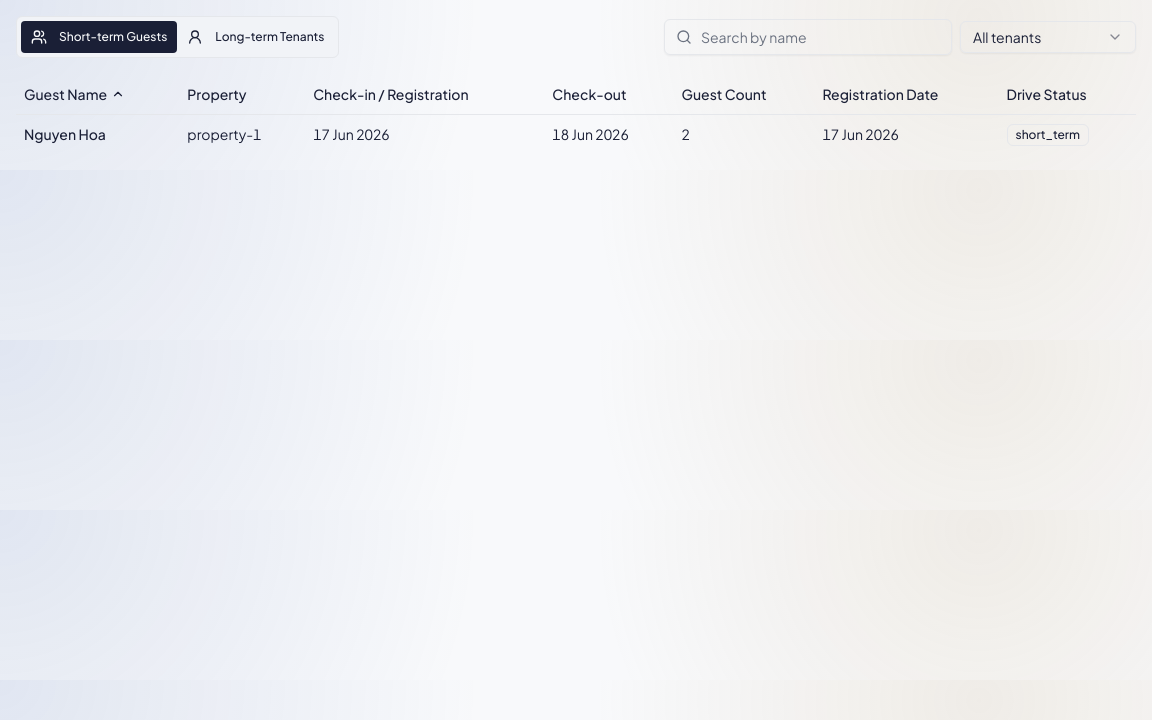
Scenario: StayRecordsTab file › renders short-term and long-term views with tenant detail sheet
The image size is (1152, 720).
Expected: the text "Nguyen Hoa" is shown, [16,114,179,154]
Click the button "Long-term Tenants". click: {"x": 256, "y": 37}
box: [177,21,334,53]
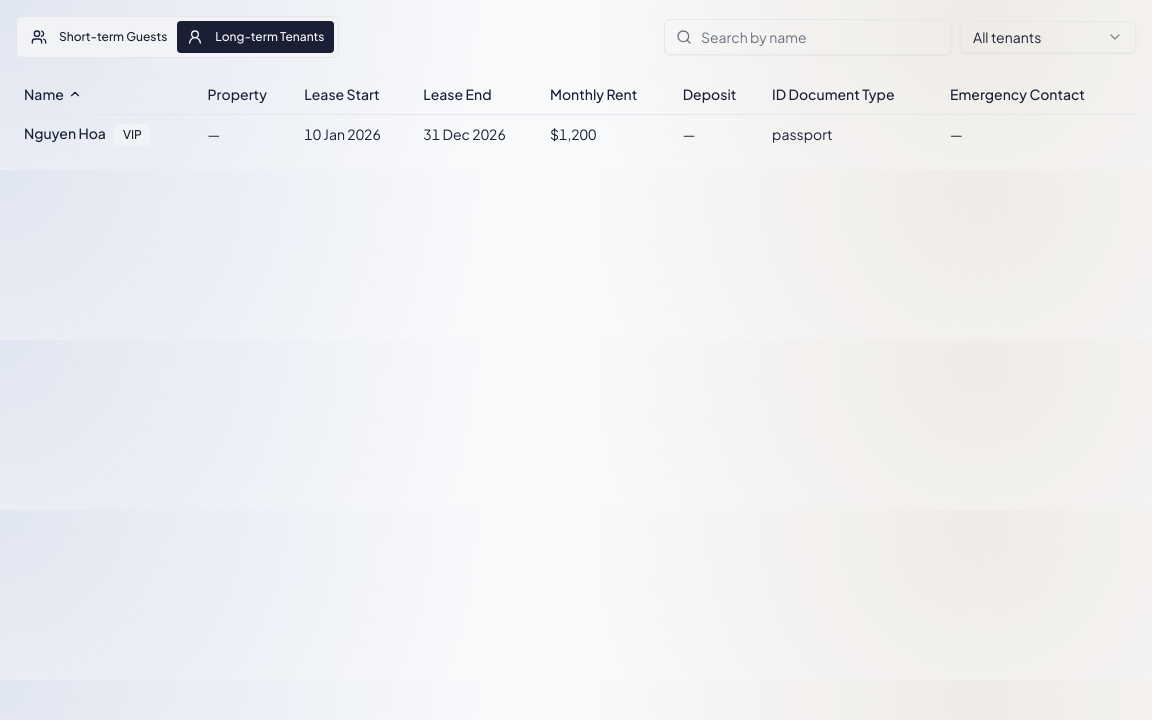
Expected: the button "Lease Start" is shown, [304,84,380,104]
Click the row "Nguyen Hoa VIP — 10 Jan 2026 31 Dec 2026 $1,200 — passport —". click: {"x": 576, "y": 134}
box: [16,114,1136,154]
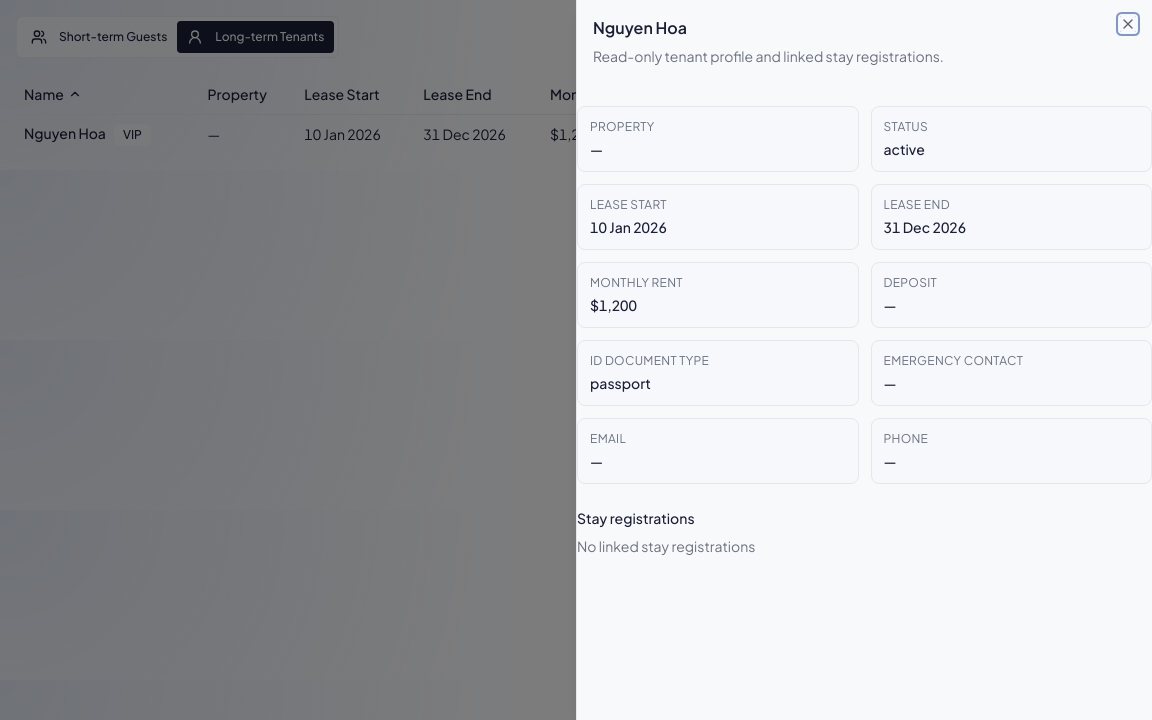
Expected: the text "Read-only tenant profile and linked stay registrations." is shown, [593,47,944,65]
